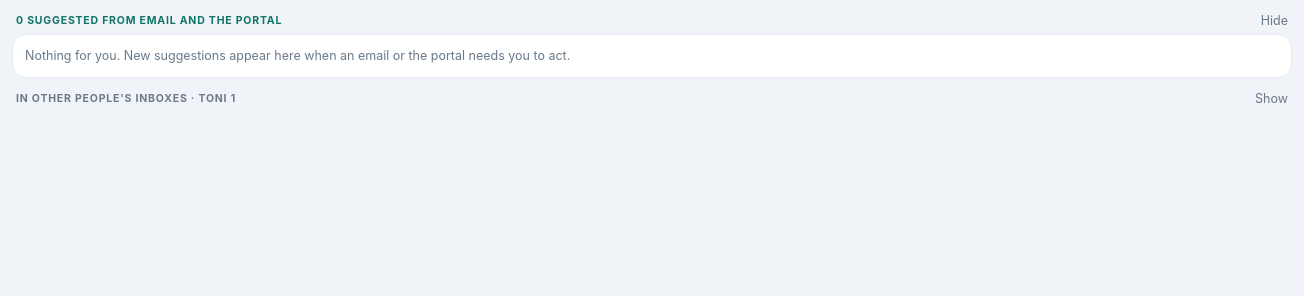
Test: on the Projects page › someone else's job is folded away apart from yours, with nothing that would act on it
Later steps or results of the test are not shown.
Expected: the text "0 suggested from email and the portal" is shown, x1=16 y1=14 x2=282 y2=27
Expected: the text "Check the report" is not shown
Click the text "In other people's inboxes · Toni 1": coordinates (126, 98) x1=16 y1=92 x2=236 y2=105
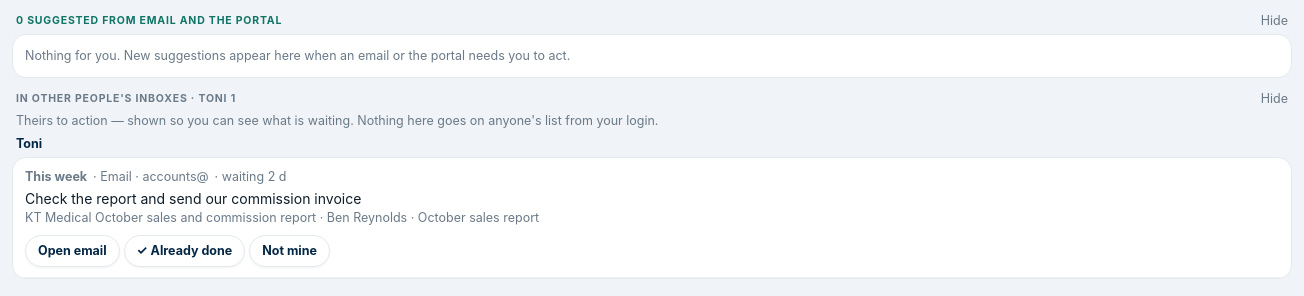
Result: the text "Check the report and send our commission invoice" is shown at x1=25 y1=190 x2=361 y2=207
